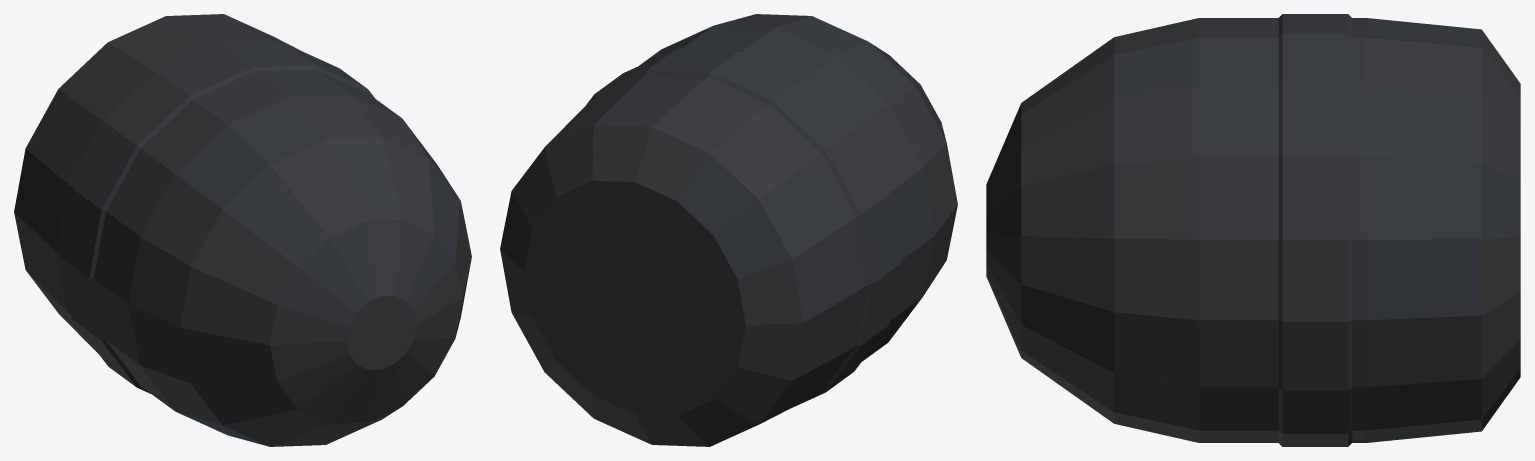
The model's file is RUBBER_SHELL.shadow.glb.
The picture shows the model from 3 angles, left to right: view 1: azimuth 30°, elevation 25°; view 2: azimuth 150°, elevation 25°; view 3: azimuth 270°, elevation 25°; orthographic projection. The views are drawn at different scales.
Parts seen in each view (by area): view 1: Body_Mesh; view 2: Body_Mesh; view 3: Body_Mesh.
Part boxes in pixels (x1,y1,x2,y2): Body_Mesh: (14,14,471,446); Body_Mesh: (500,14,957,446); Body_Mesh: (986,14,1520,446).
Bounding box in the file's own units: 0.112 × 0.112 × 0.138.
1 material, 1 textured.
